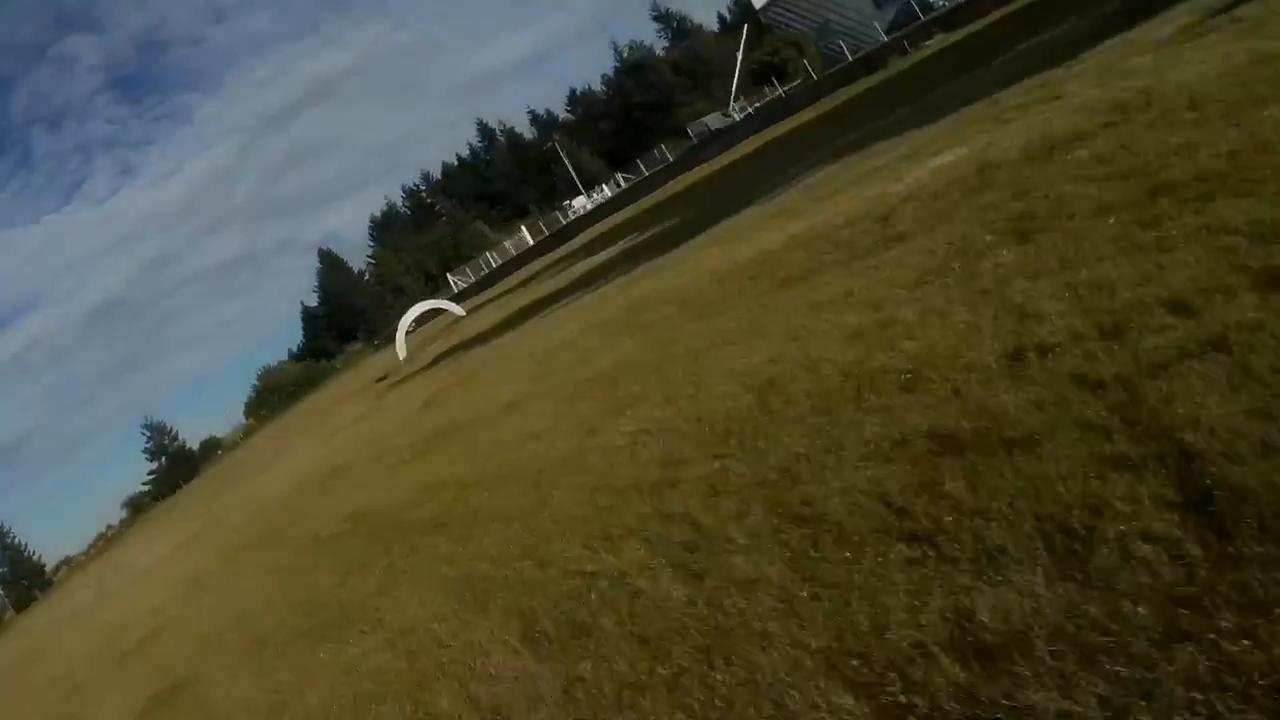gate: (396, 298, 463, 362)
